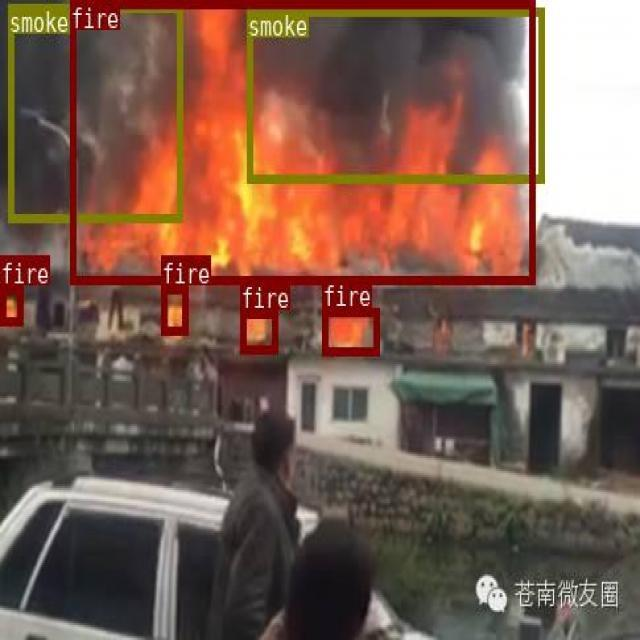fire: (69, 0, 533, 283), (321, 306, 379, 354), (239, 308, 276, 351), (160, 284, 187, 334), (0, 283, 21, 325)
smoke: (247, 6, 543, 182), (7, 2, 181, 220)
